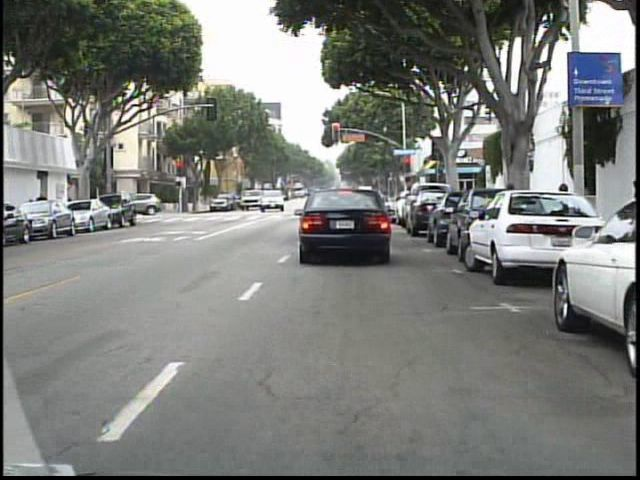person: (35, 188, 51, 228), (135, 190, 151, 218)
